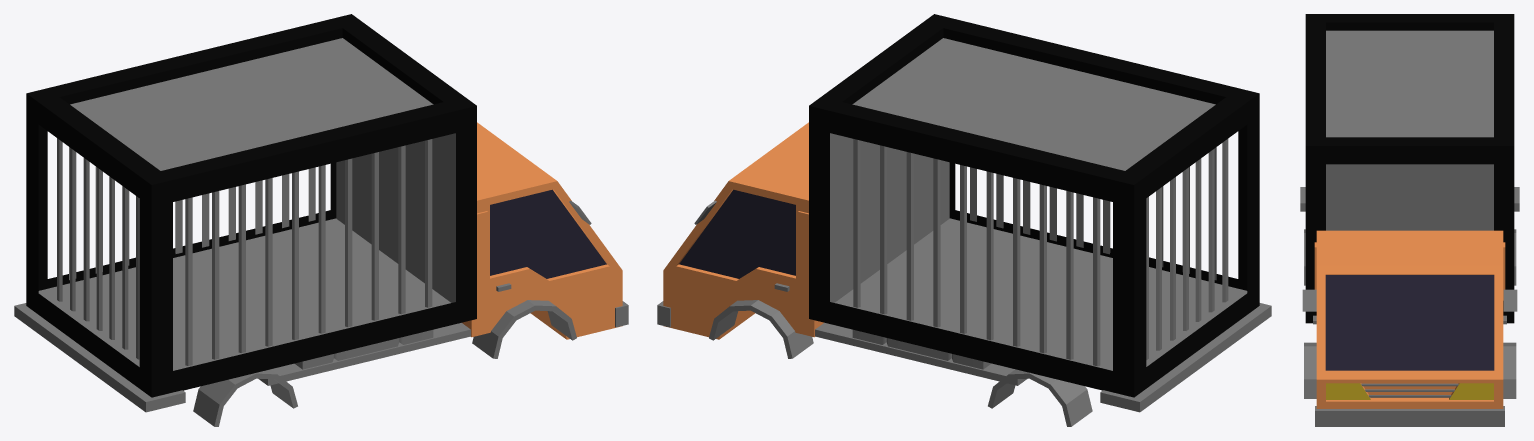
File: truck.fbx
3 renders of one model, left to right at view 1: azimuth 30°, elevation 25°; view 2: azimuth 150°, elevation 25°; view 3: azimuth 270°, elevation 25°, orthographic. The views are drawn at different scales.
Parts seen in each view (by area): view 1: main_body, cockpit, polySurface21, polySurface1, polySurface22, polySurface22.001, polySurface22.005, polySurface22.002, polySurface22.003, polySurface22.004, polySurface6, polySurface22.006; view 2: main_body, cockpit, polySurface21, polySurface1, polySurface22.006, polySurface22.005, polySurface22.004, polySurface22.001, polySurface22, polySurface22.002, polySurface10; view 3: main_body, cockpit, polySurface1, polySurface4, polySurface7, polySurface9.
Boxes of the visible parts, x1,y1,x2,y2 form: main_body: (26,14,476,397); cockpit: (462,122,622,339); polySurface21: (69,139,432,365); polySurface1: (14,300,628,426); polySurface22: (96,167,102,330); polySurface22.001: (83,158,89,321); polySurface22.005: (122,186,128,349); polySurface22.002: (70,148,75,311); polySurface22.003: (57,138,62,301); polySurface22.004: (109,176,114,339); polySurface6: (477,211,487,278); polySurface22.006: (136,196,139,359); main_body: (809,14,1259,397); cockpit: (663,122,823,339); polySurface21: (853,139,1216,366); polySurface1: (657,300,1271,426); polySurface22.006: (1222,139,1228,302); polySurface22.005: (1208,148,1214,312); polySurface22.004: (1195,158,1201,321); polySurface22.001: (1170,177,1175,340); polySurface22: (1183,167,1188,330); polySurface22.002: (1156,187,1161,350); polySurface10: (798,211,808,278); main_body: (1305,14,1514,323); cockpit: (1316,230,1503,408); polySurface1: (1300,187,1519,426); polySurface4: (1361,383,1458,397); polySurface7: (1302,289,1316,311); polySurface9: (1503,289,1517,311).
Bounding box in the file's own units: 582 × 1254 × 639.
